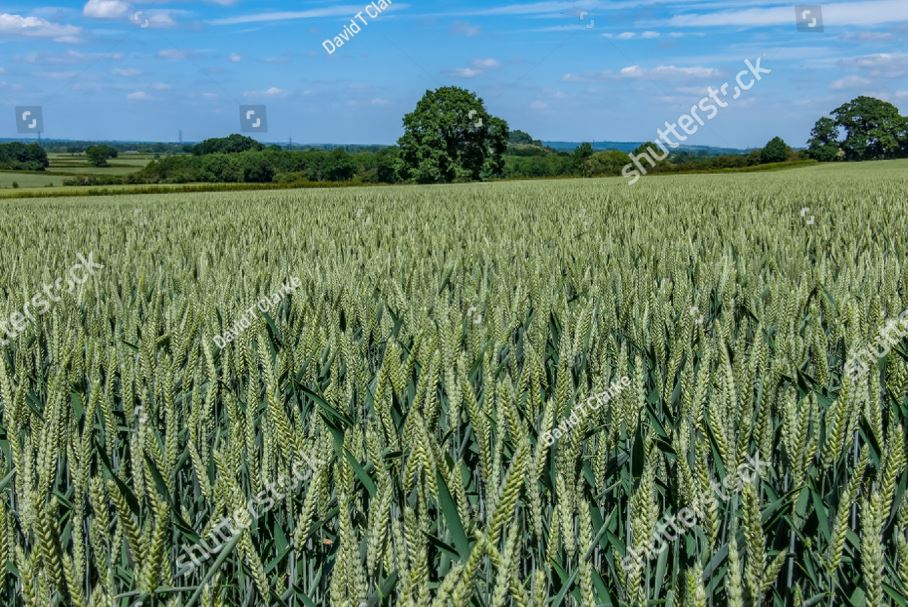Wheat: (81, 334, 836, 586)
